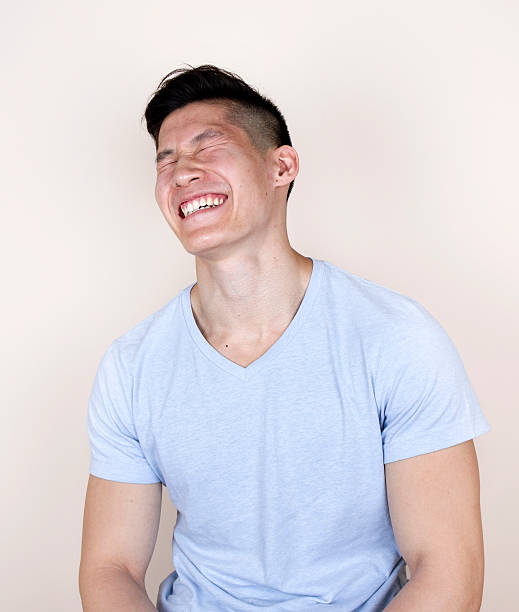person: (143, 65, 303, 270)
